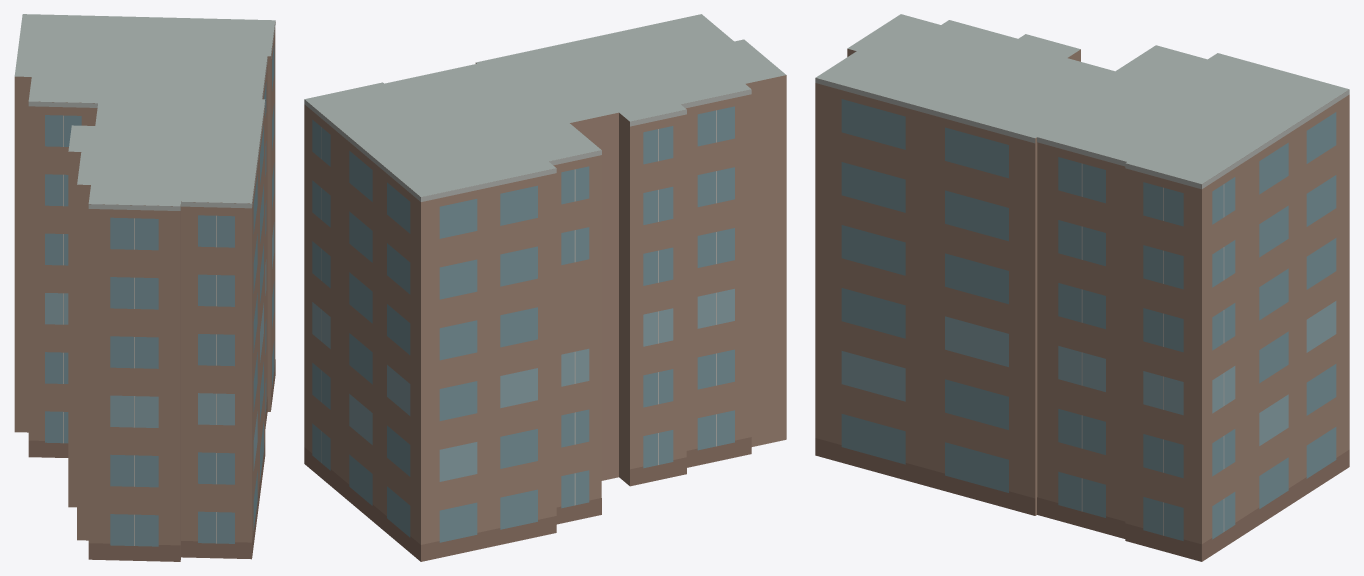
File: survey-upis-32678277.glb
3 renders of one model, left to right at view 1: azimuth 30°, elevation 25°; view 2: azimuth 150°, elevation 25°; view 3: azimuth 270°, elevation 25°, orthographic. The views are drawn at different scales.
Visible parts, largest first — view 1: survey-upis-32678277.tmp; view 2: survey-upis-32678277.tmp; view 3: survey-upis-32678277.tmp.
Boxes of the visible parts, x1,y1,x2,y2 form: survey-upis-32678277.tmp: [14, 14, 275, 561]; survey-upis-32678277.tmp: [304, 14, 786, 561]; survey-upis-32678277.tmp: [815, 14, 1349, 561].
Size of the model in its own units: 17.41 by 18 by 23.08.
